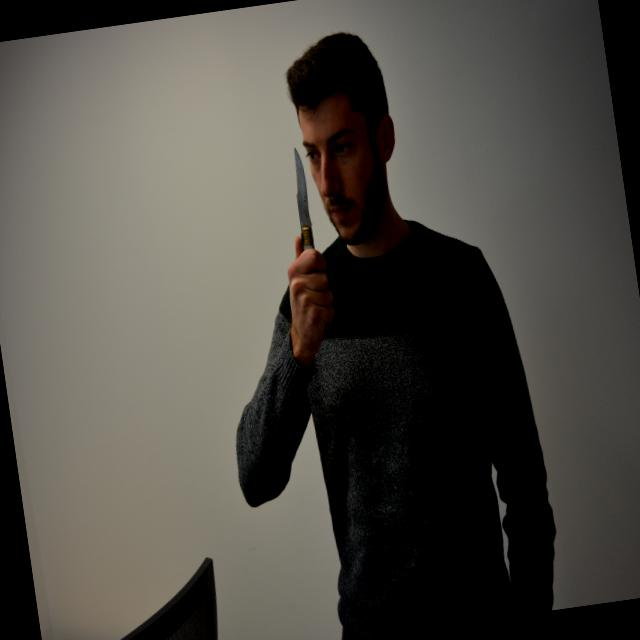knife: (277, 142, 329, 276)
